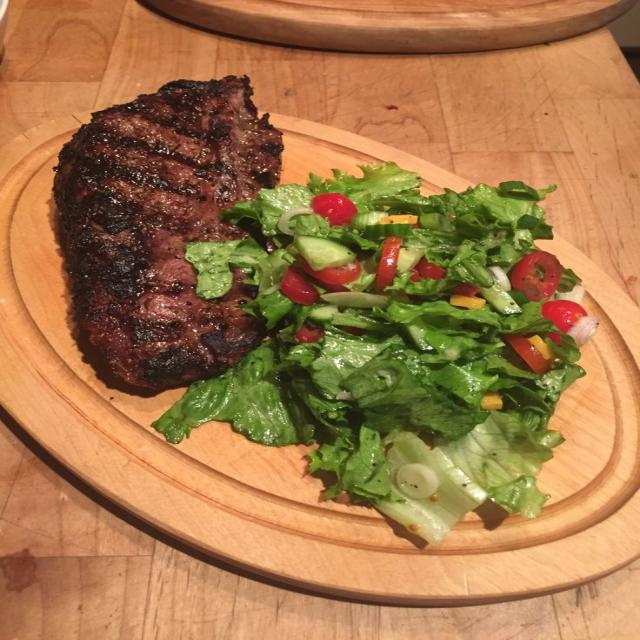lettuce: (374, 183, 554, 284), (152, 341, 316, 446), (341, 349, 485, 439), (376, 432, 486, 543), (437, 412, 561, 489), (288, 330, 399, 397), (307, 162, 419, 209), (186, 239, 265, 299), (344, 353, 425, 408), (389, 301, 498, 339), (405, 318, 492, 361), (340, 427, 390, 500), (291, 376, 349, 436), (431, 361, 497, 406), (254, 185, 310, 234), (489, 476, 550, 518), (246, 289, 295, 329), (503, 384, 554, 421), (537, 364, 584, 402), (254, 249, 292, 294), (487, 356, 538, 379), (330, 312, 383, 330), (294, 213, 330, 235), (312, 445, 328, 468), (231, 206, 240, 221)
sliced_tomato: (503, 334, 550, 373)
